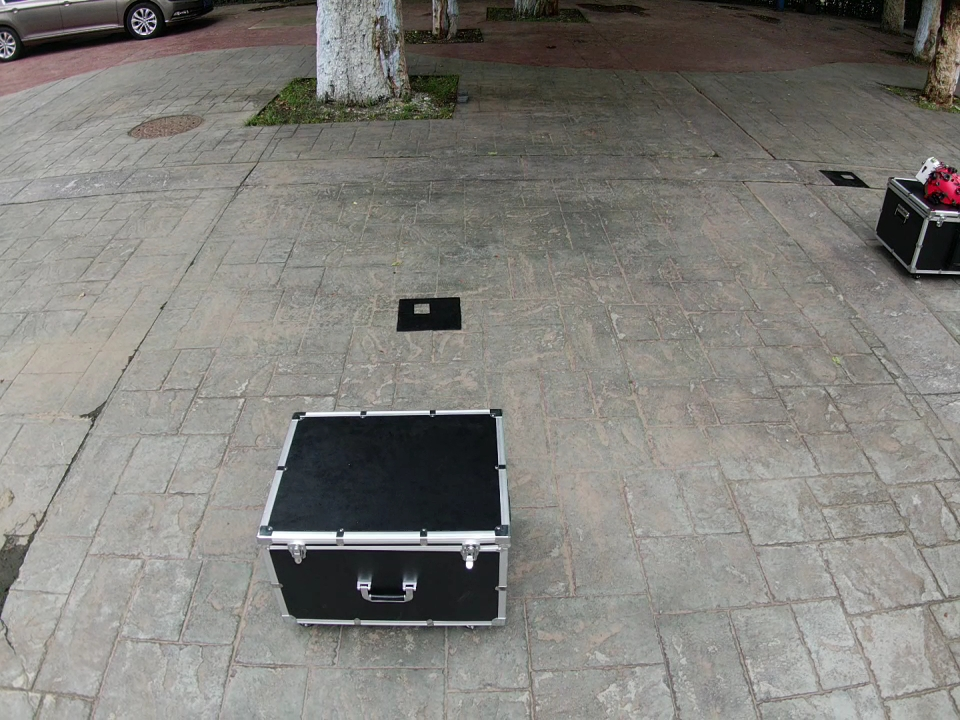box: (257, 409, 509, 625), (873, 177, 960, 274)
helmet: (924, 166, 960, 206)
qrcode: (397, 297, 462, 332), (820, 170, 870, 188)
